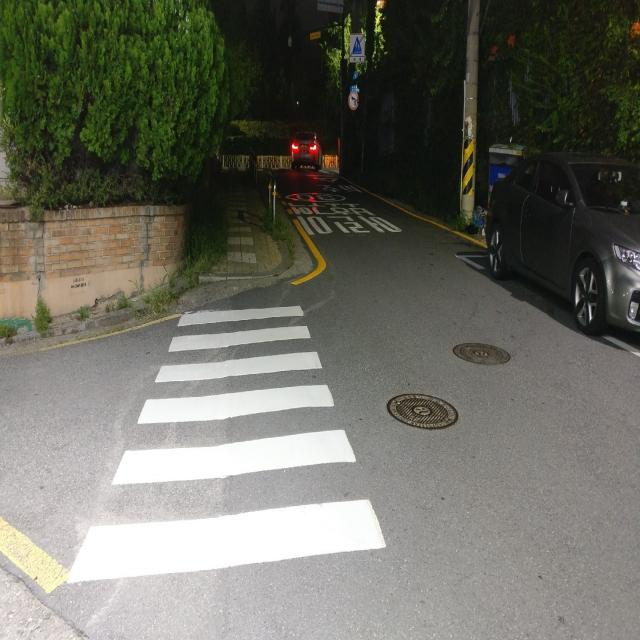횡단보도: (64, 302, 390, 588)
